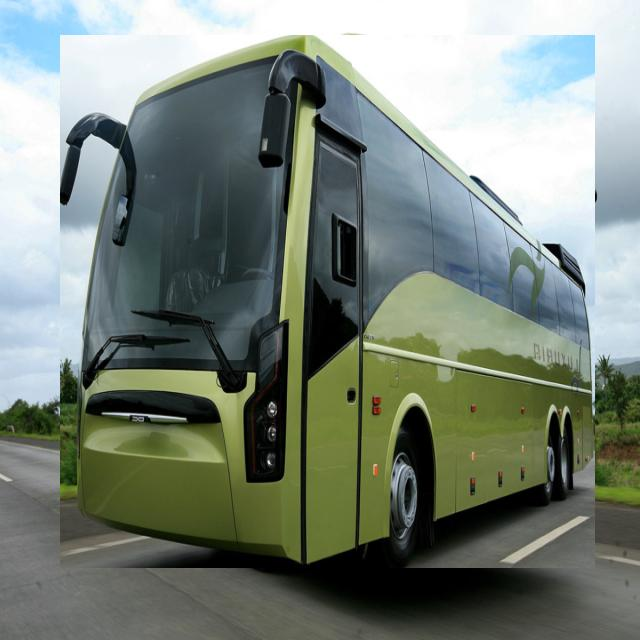bus: (60, 35, 595, 568)
